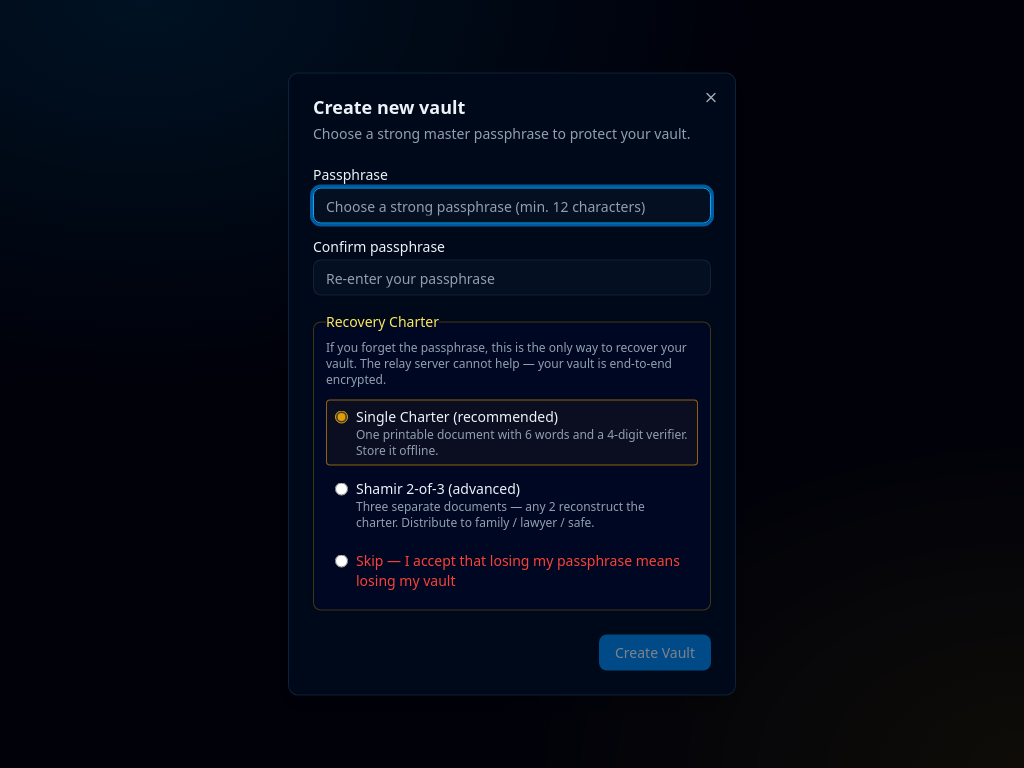
Test: CreateVaultDialog › 유효성 검사: 12자 이상 + 일치하면 Create 버튼이 활성화된다
Type "mysecretpassword123" into the password field labelled "Passphrase".
click(512, 206); type("mysecretpassword123")  # box x1=313 y1=188 x2=711 y2=224
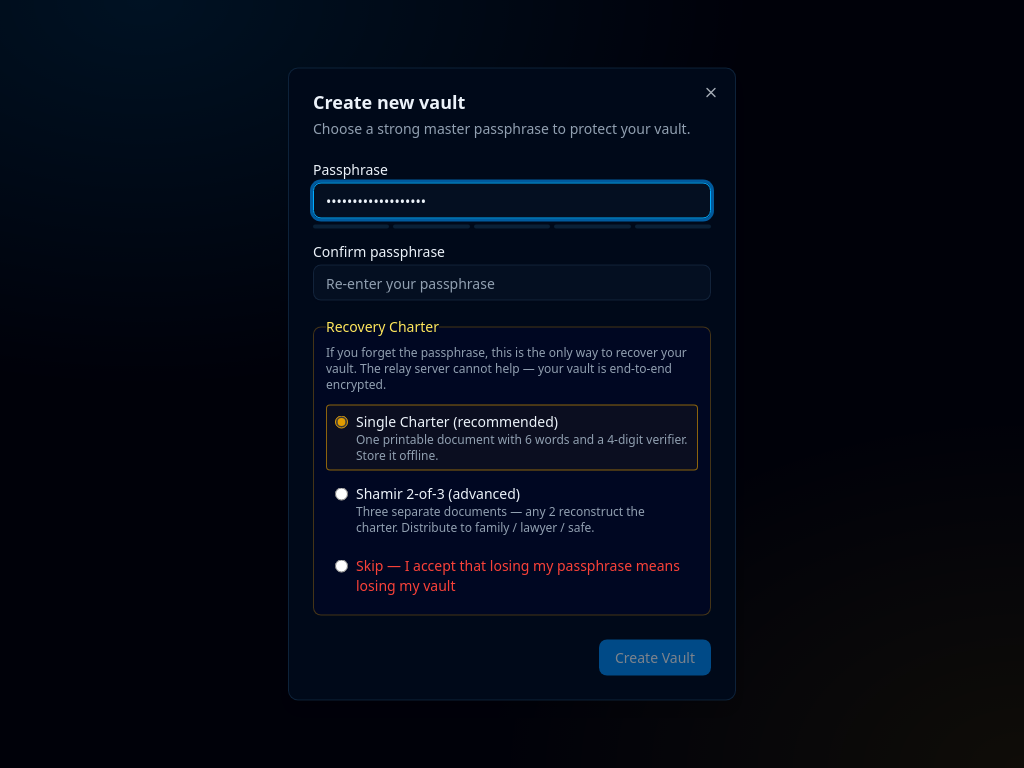
Type "mysecretpassword123" into the password field labelled "Confirm passphrase".
click(512, 282); type("mysecretpassword123")  # box x1=313 y1=264 x2=711 y2=300
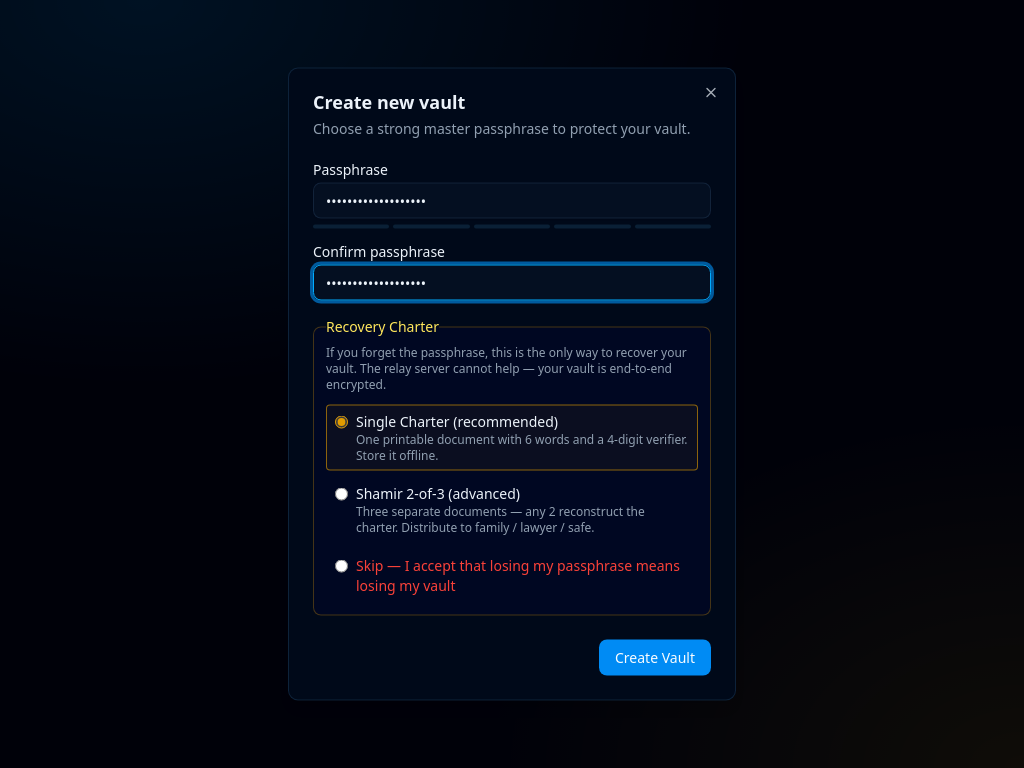
Expected: the button "Create Vault" is enabled, x1=599 y1=640 x2=711 y2=676
